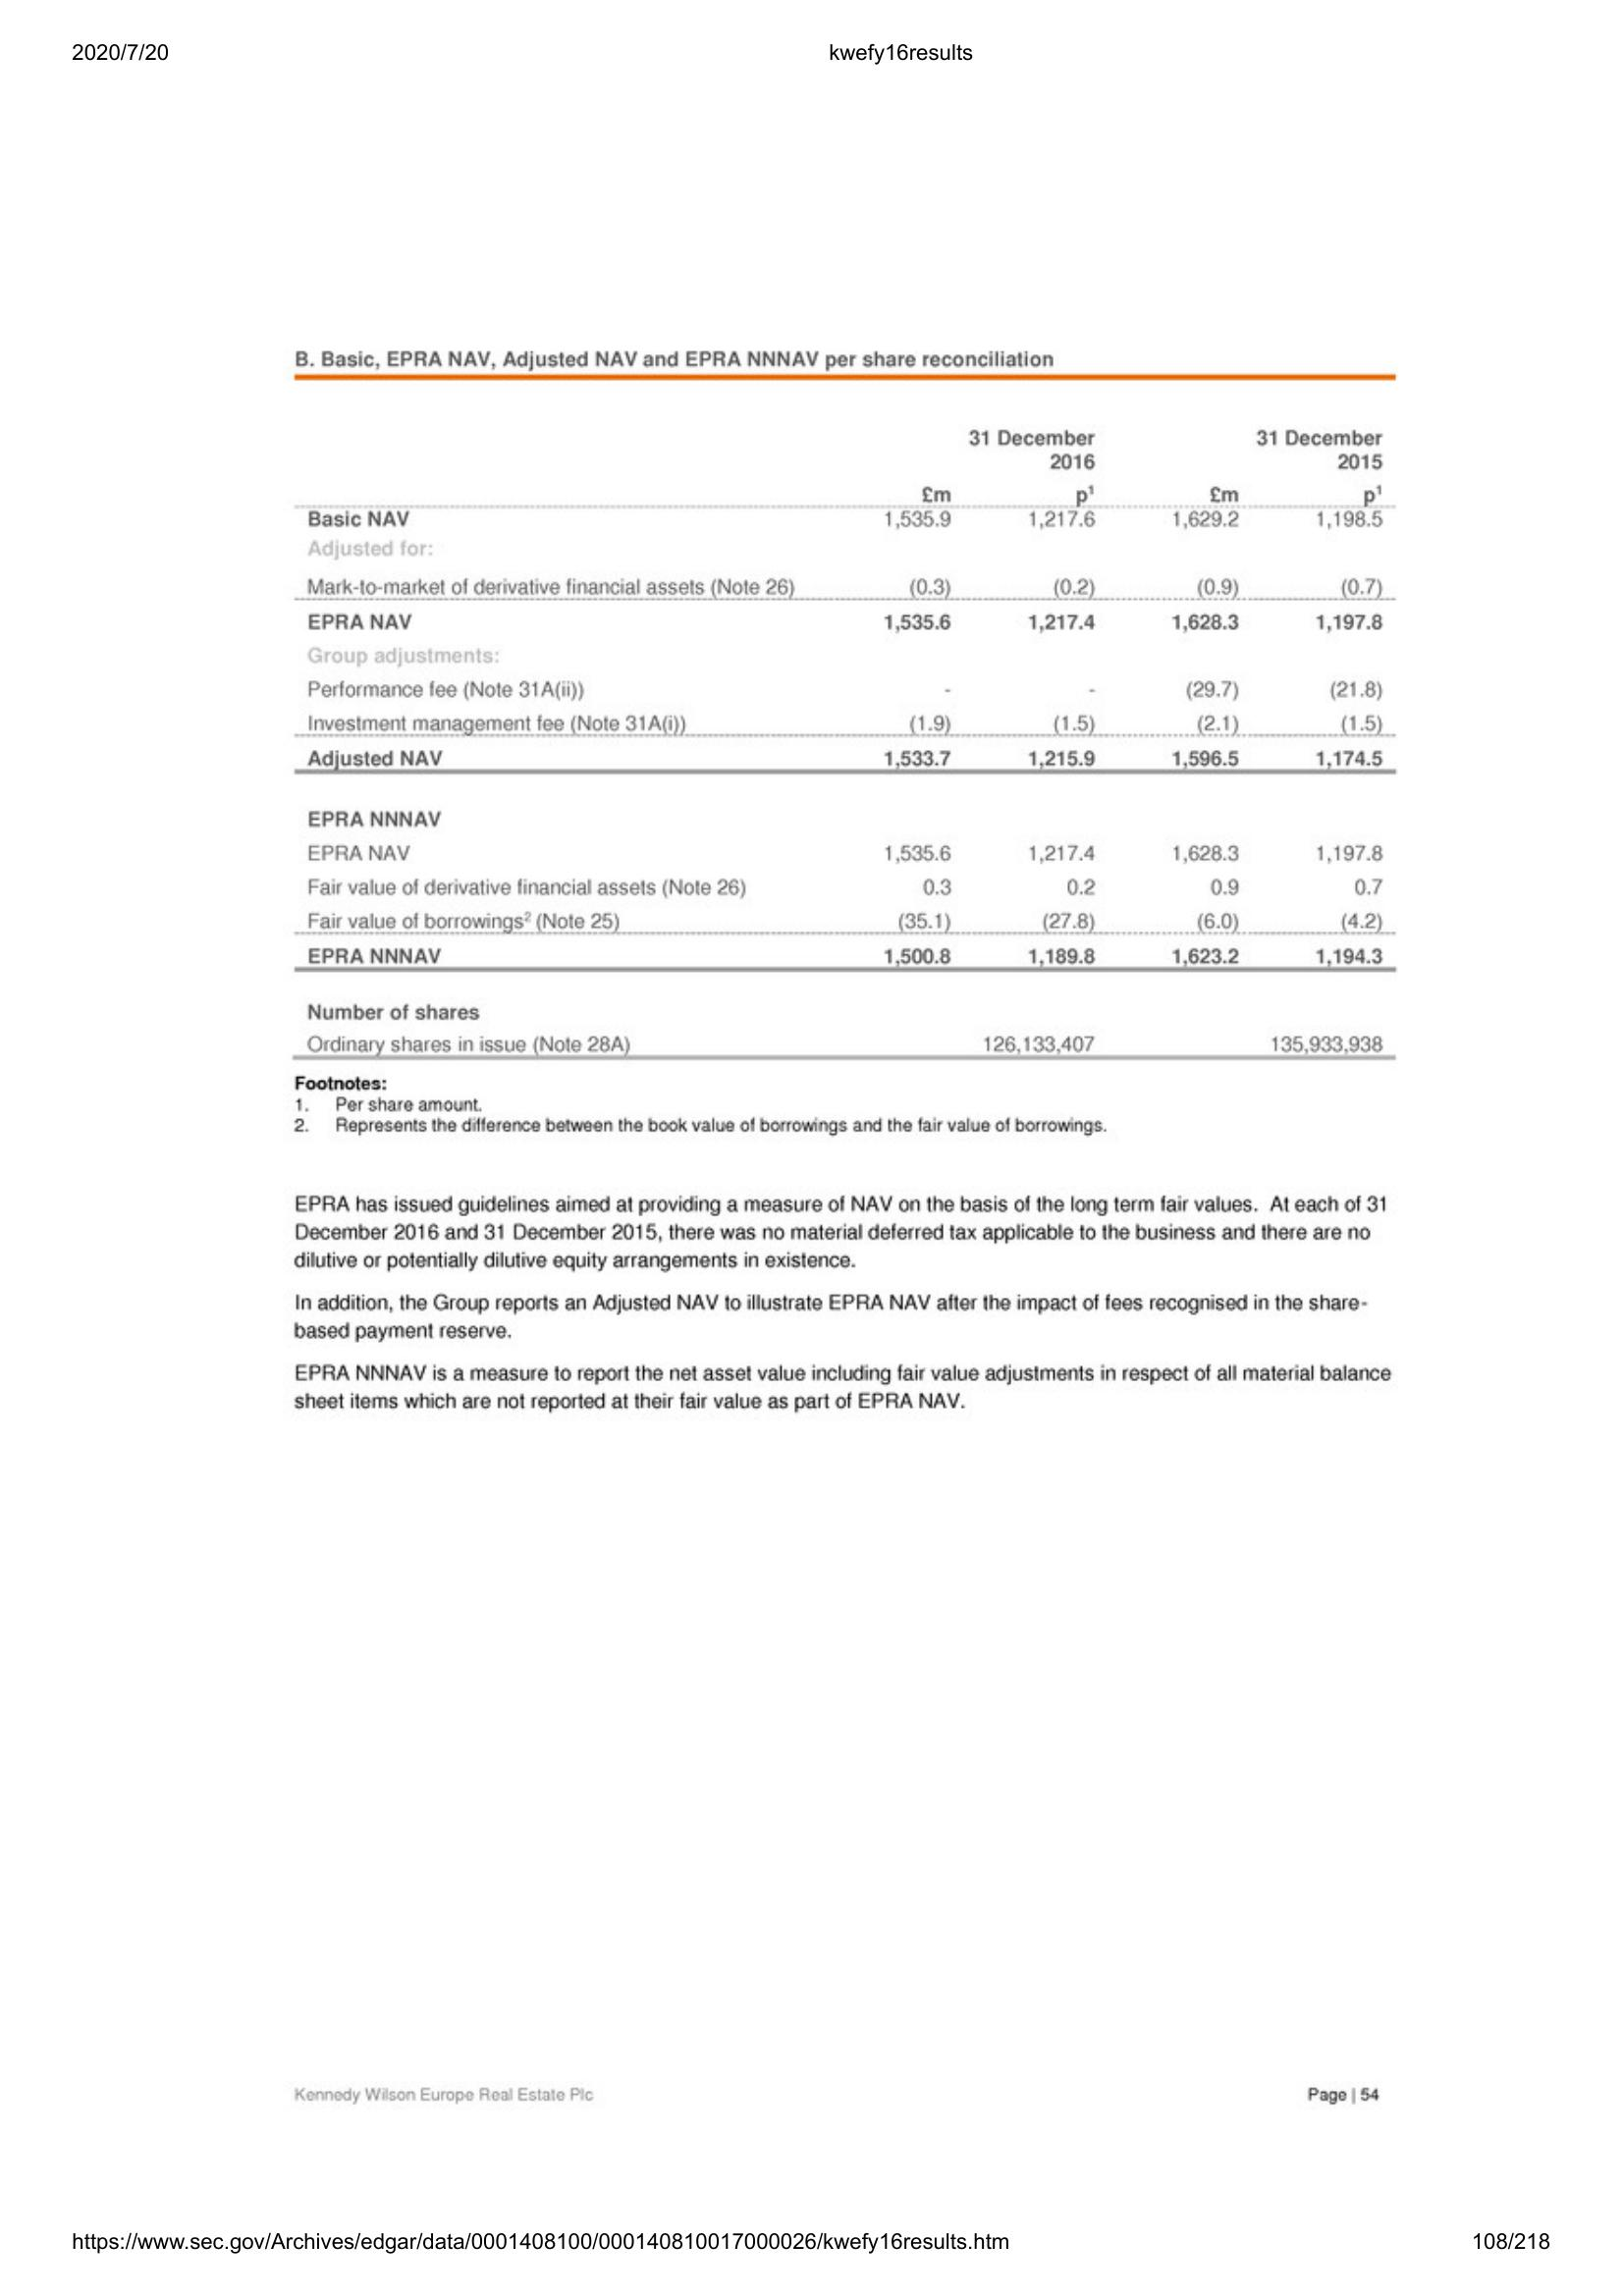table: (288, 370, 1403, 1065)
